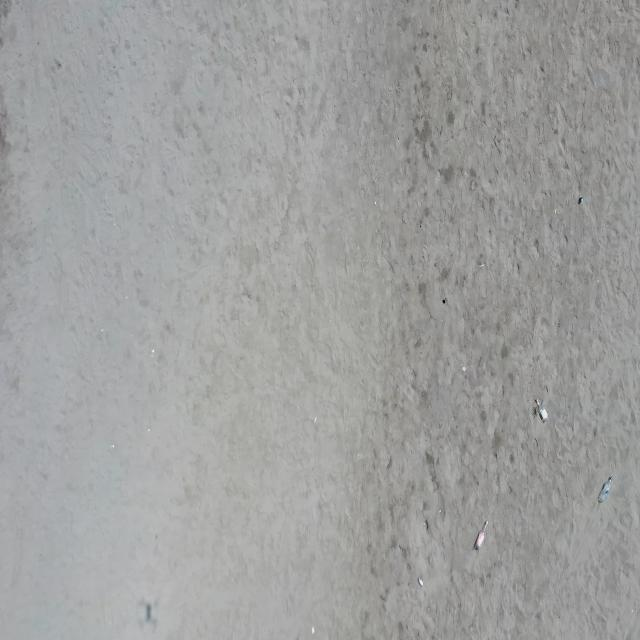glass: (598, 476, 612, 503), (535, 397, 549, 423), (476, 520, 488, 549), (418, 577, 423, 588)
